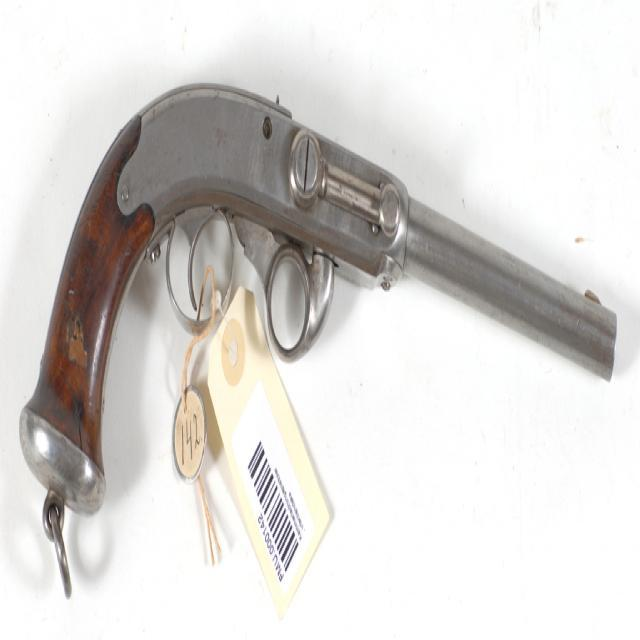weapon: (17, 78, 618, 602)
